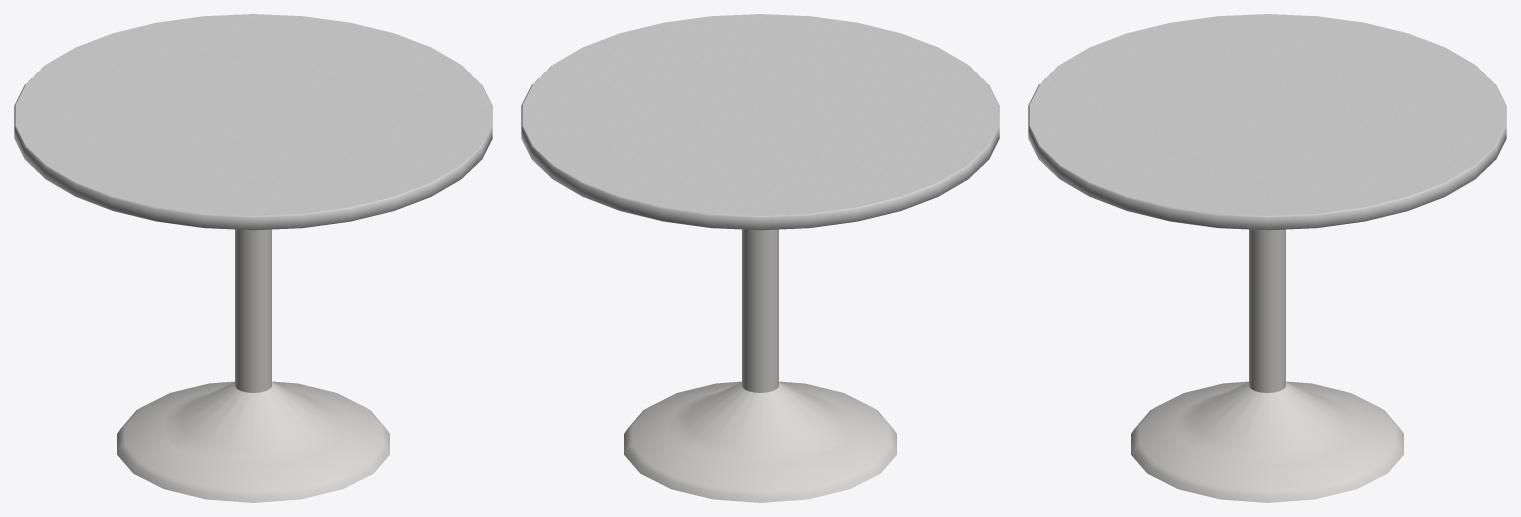
The model's file is Table03.FBX.
3 views of the same model, side by side, from view 1: azimuth 30°, elevation 25°; view 2: azimuth 150°, elevation 25°; view 3: azimuth 270°, elevation 25° (orthographic).
Visible parts, largest first — view 1: Table01_3; view 2: Table01_3; view 3: Table01_3.
Part boxes in pixels (bbox=[...]): Table01_3: bbox=[14, 14, 492, 502]; Table01_3: bbox=[521, 14, 999, 502]; Table01_3: bbox=[1028, 14, 1506, 502].
Bounding box in the file's own units: 99.33 × 75 × 98.78.
